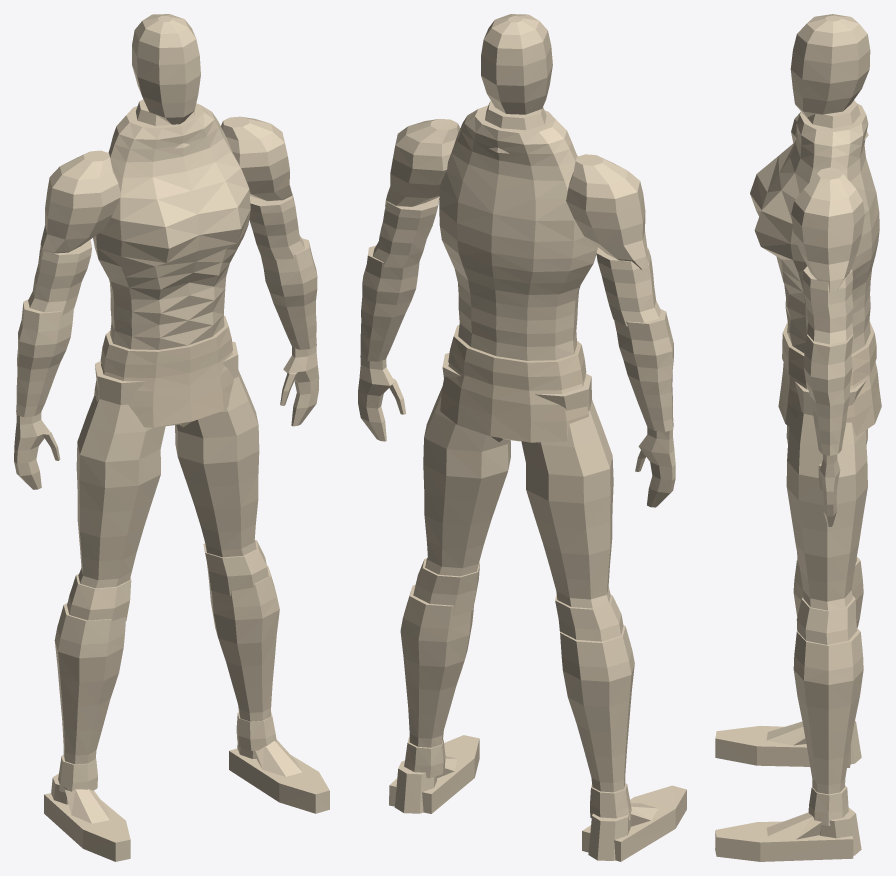
File: male-toned-3.glb
3 views of the same model, side by side, from view 1: azimuth 30°, elevation 25°; view 2: azimuth 150°, elevation 25°; view 3: azimuth 270°, elevation 25° (orthographic). The views are drawn at different scales.
Visible parts, largest first — view 1: torso, leg_upper_l, leg_upper_r, leg_lower_l, leg_lower_r, head, deltoid_l, briefs, arm_lower_l, deltoid_r, arm_lower_r, briefs_waistband (+12 smaller); view 2: torso, leg_upper_l, leg_upper_r, leg_lower_l, leg_lower_r, briefs, deltoid_l, head, arm_lower_l, deltoid_r, arm_lower_r, briefs_waistband (+13 smaller); view 3: torso, leg_upper_r, leg_lower_r, head, deltoid_r, arm_lower_r, foot_r, arm_upper_r, foot_l, briefs, knee_r, briefs_waistband (+7 smaller).
Part boxes in pixels (<box>): torso: <box>93,103,250,425</box>; leg_upper_l: <box>76,361,165,588</box>; leg_upper_r: <box>175,341,259,557</box>; leg_lower_l: <box>54,603,125,764</box>; leg_lower_r: <box>209,565,279,721</box>; head: <box>132,14,200,124</box>; deltoid_l: <box>39,150,120,259</box>; briefs: <box>94,350,233,427</box>; arm_lower_l: <box>16,299,73,417</box>; deltoid_r: <box>221,116,292,201</box>; arm_lower_r: <box>260,238,317,349</box>; briefs_waistband: <box>100,316,232,378</box>; torso: <box>439,105,597,441</box>; leg_upper_l: <box>521,373,613,608</box>; leg_upper_r: <box>423,353,510,576</box>; leg_lower_l: <box>560,625,634,792</box>; leg_lower_r: <box>400,584,473,747</box>; briefs: <box>440,361,588,442</box>; deltoid_l: <box>566,154,647,269</box>; head: <box>481,14,552,114</box>; arm_lower_l: <box>614,309,673,431</box>; deltoid_r: <box>385,119,460,206</box>; arm_lower_r: <box>360,245,419,361</box>; briefs_waistband: <box>448,325,586,390</box>; torso: <box>750,103,879,353</box>; leg_upper_r: <box>786,380,867,610</box>; leg_lower_r: <box>793,628,863,794</box>; head: <box>790,14,870,117</box>; deltoid_r: <box>791,167,864,292</box>; arm_lower_r: <box>803,334,853,455</box>; foot_r: <box>715,821,853,861</box>; arm_upper_r: <box>803,266,853,344</box>; foot_l: <box>715,725,850,767</box>; briefs: <box>778,361,881,436</box>; knee_r: <box>796,595,856,644</box>; briefs_waistband: <box>782,321,876,385</box>.
Bounding box in the file's own units: 0.7536 × 1.85 × 0.3557.
